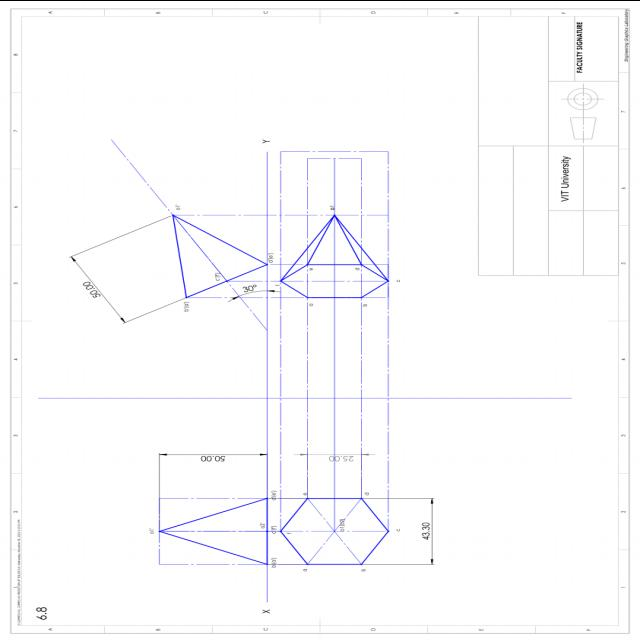Drawings: (138, 133, 448, 579)
